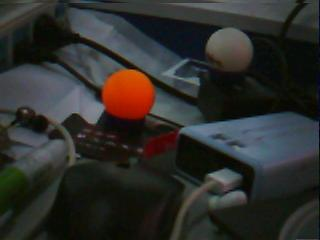oball: (101, 70, 155, 120)
